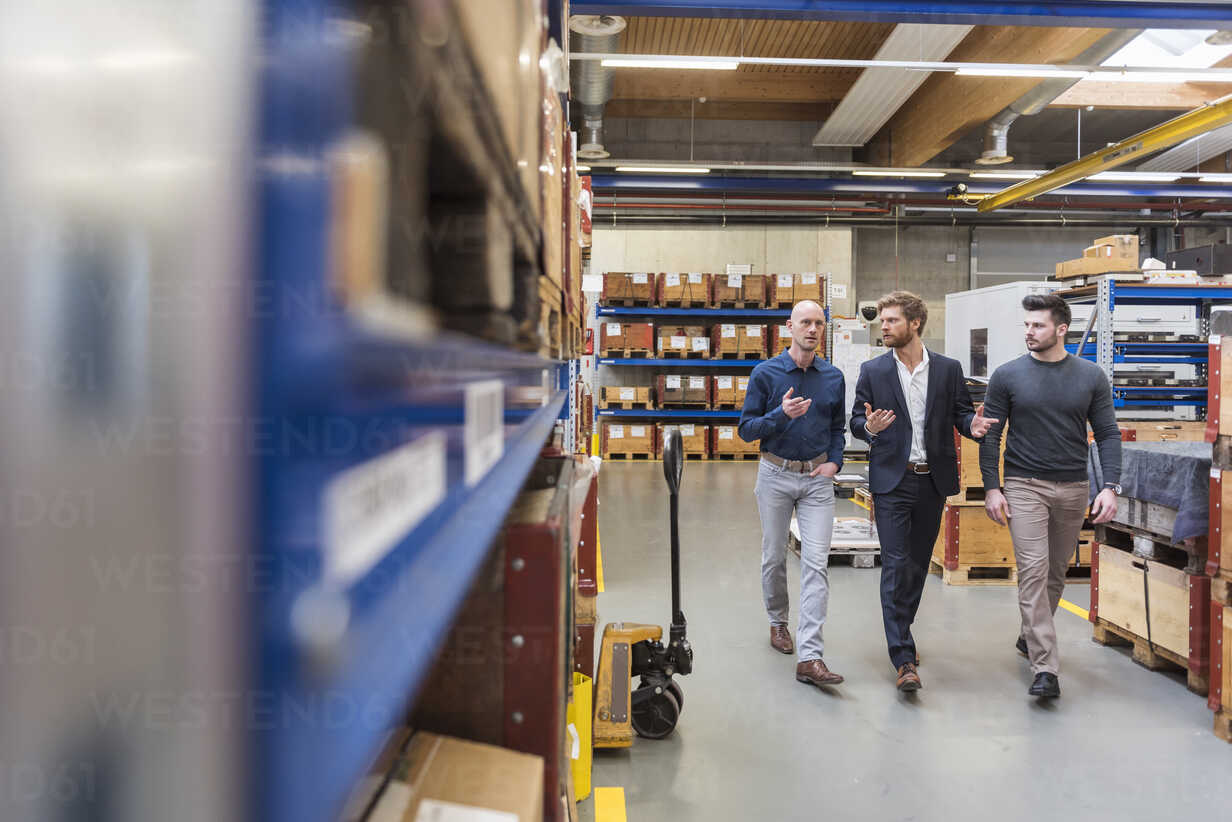person: (984, 296, 1123, 700), (852, 295, 989, 689), (740, 301, 848, 683)
